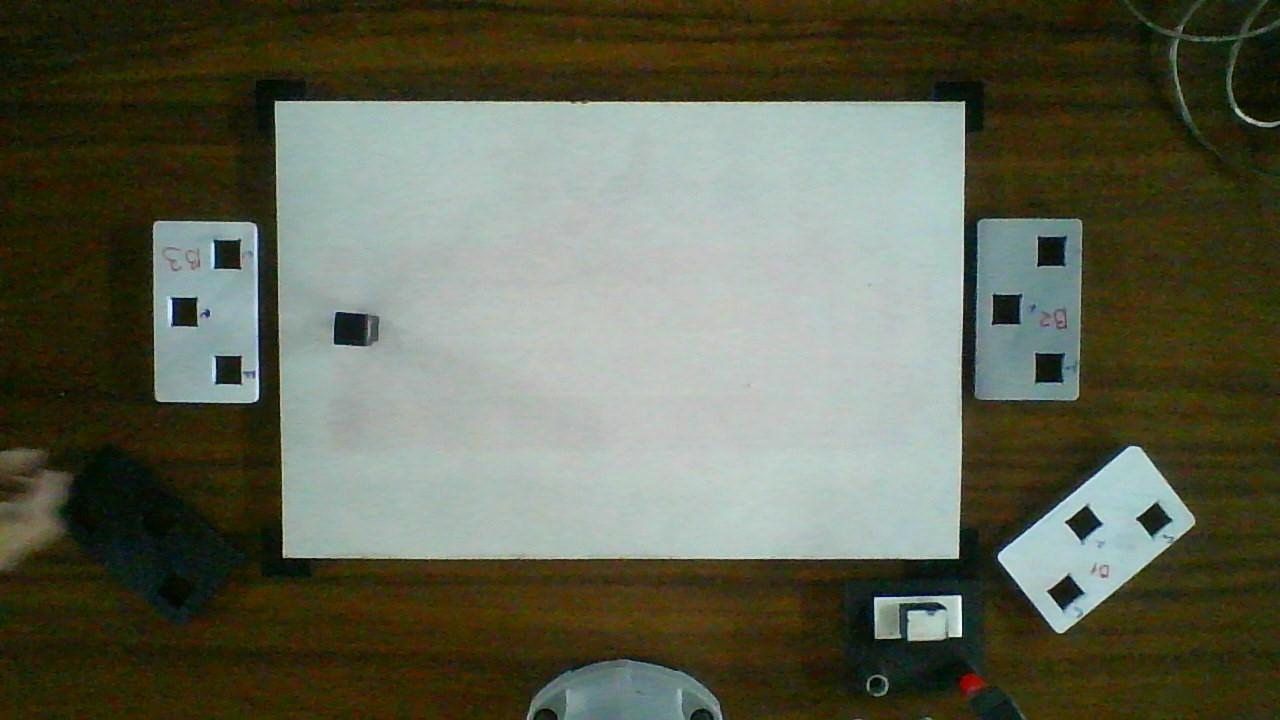peca_preta: (336, 313, 365, 346)
